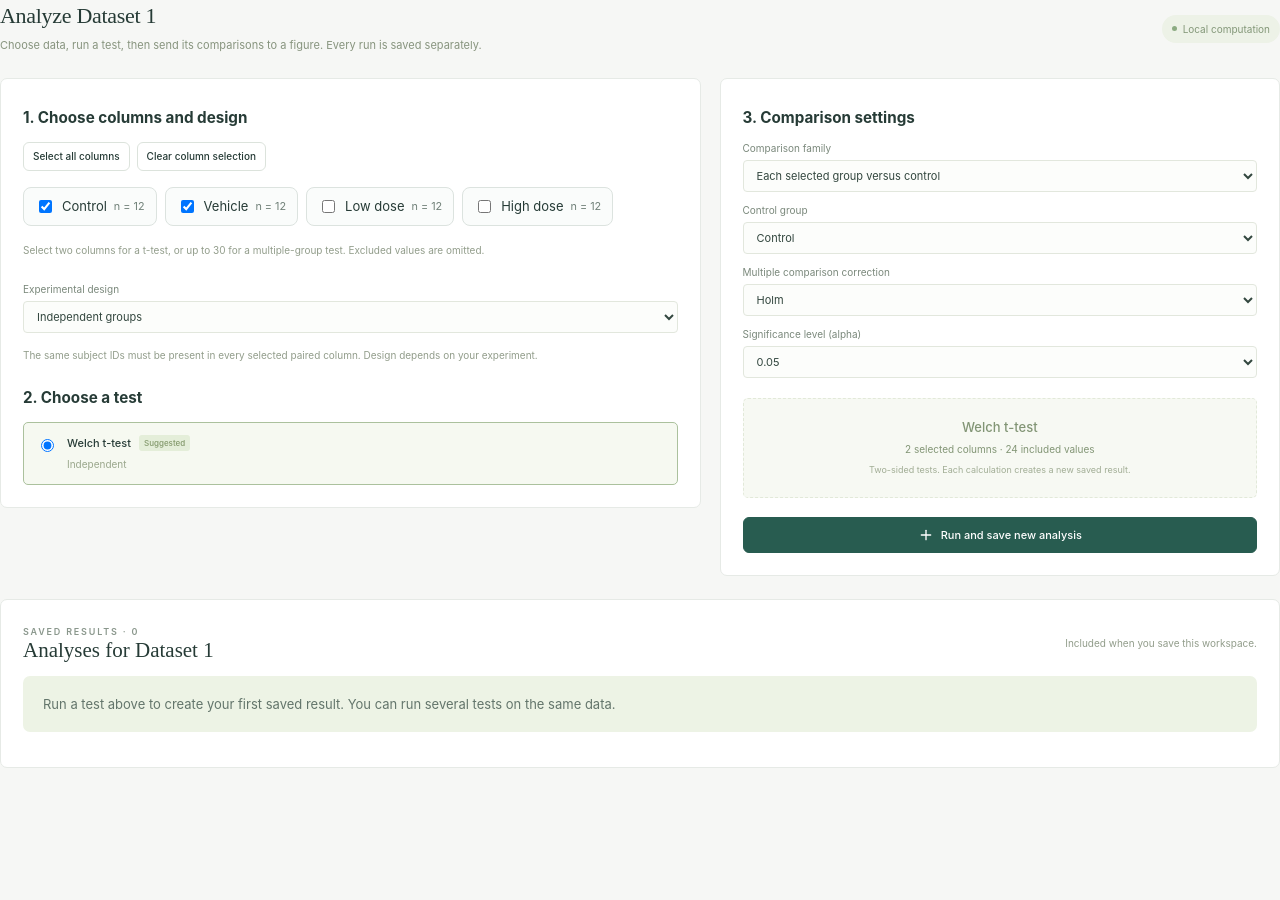
it: runs a chosen pair from a larger dataset and keeps results independent from chart attachment
Later steps or results of the test are not shown.
Click the button "Run and save new analysis": point(1000, 535) [742,517,1257,553]
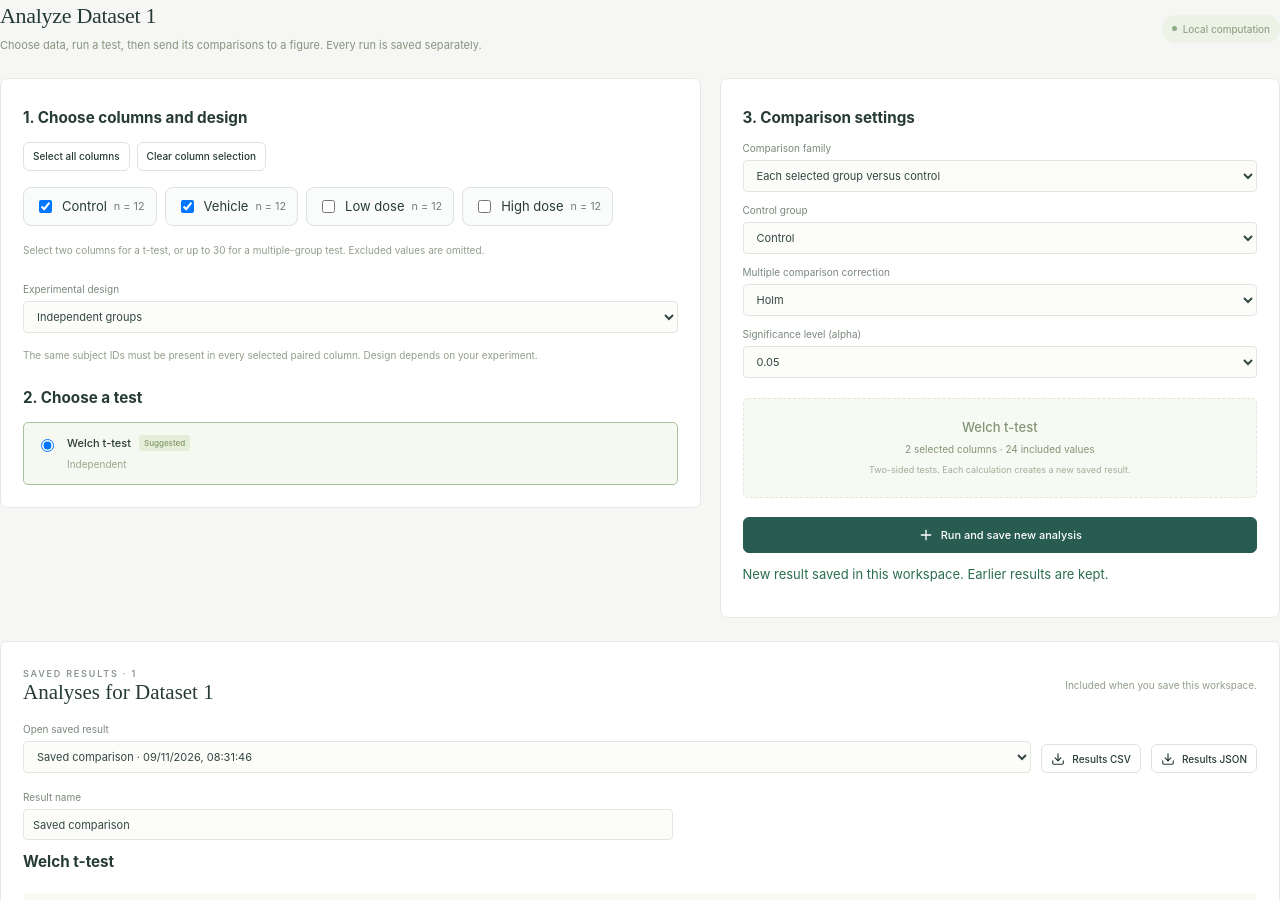
Click the button "Run and save new analysis": point(1000, 535) [742,517,1257,553]
(page scrolled)
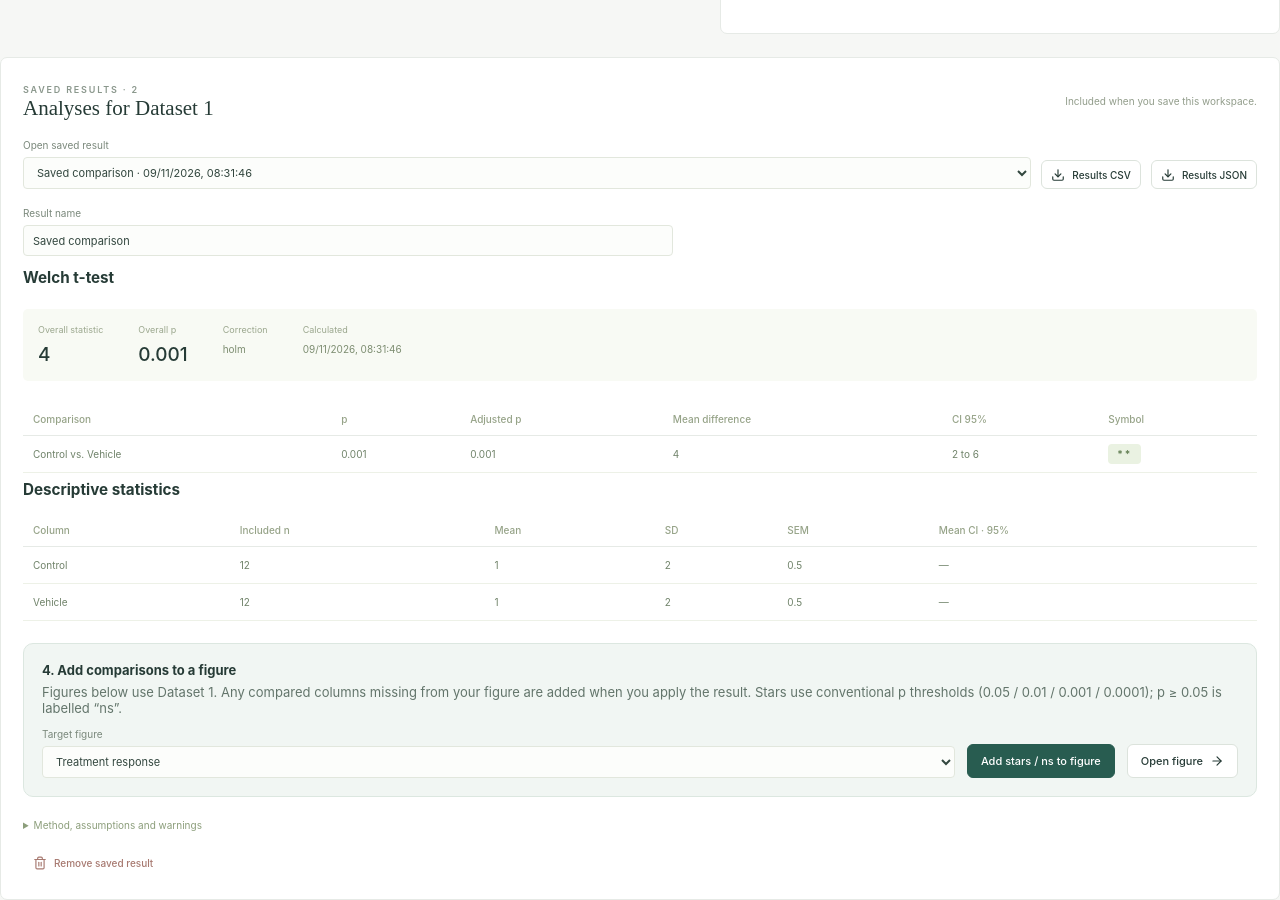
expect the button "Add stars / ns to figure" is shown: met, box [967,744,1115,778]
